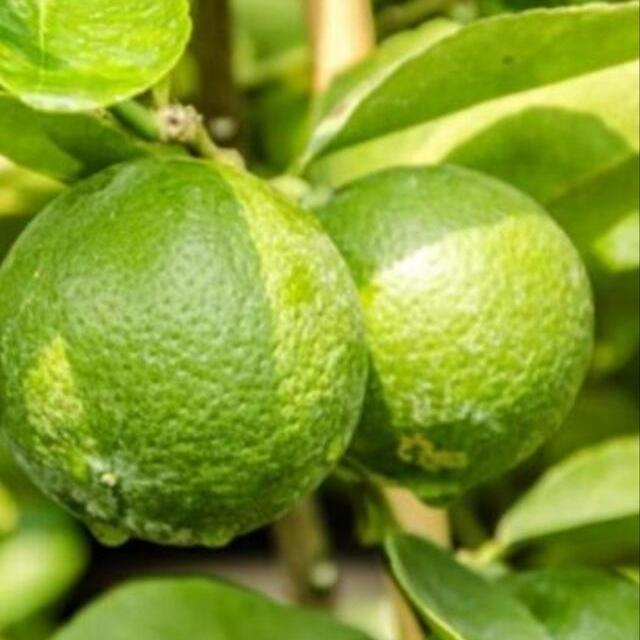lime: (0, 130, 376, 573), (285, 154, 603, 501)
